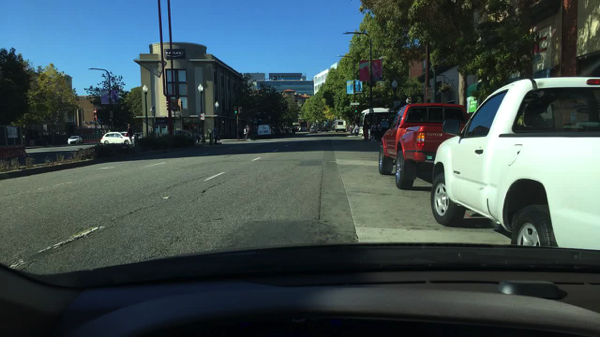bus: (357, 107, 398, 136), (334, 120, 346, 132), (291, 122, 299, 131)
car: (430, 77, 599, 250), (166, 129, 205, 143), (100, 132, 132, 145), (119, 132, 141, 140), (257, 124, 271, 136), (67, 136, 82, 145), (310, 128, 317, 134), (320, 126, 326, 132), (326, 125, 331, 131), (300, 127, 307, 131), (134, 133, 141, 136), (317, 126, 320, 132)
person: (381, 117, 388, 134), (364, 120, 369, 139), (127, 124, 132, 142), (213, 126, 218, 143), (377, 121, 381, 136), (361, 120, 365, 134), (246, 125, 250, 139), (348, 123, 353, 134), (243, 127, 247, 139), (354, 124, 358, 136), (387, 117, 392, 125), (282, 126, 286, 135), (368, 121, 372, 129), (149, 129, 154, 135), (375, 120, 377, 135), (293, 126, 296, 135)
traffic light: (404, 96, 411, 104), (240, 105, 244, 114), (234, 105, 238, 114), (166, 102, 169, 110), (354, 108, 356, 114)
traffic sign: (198, 113, 206, 119), (349, 103, 360, 105)
truck: (378, 103, 468, 190)
